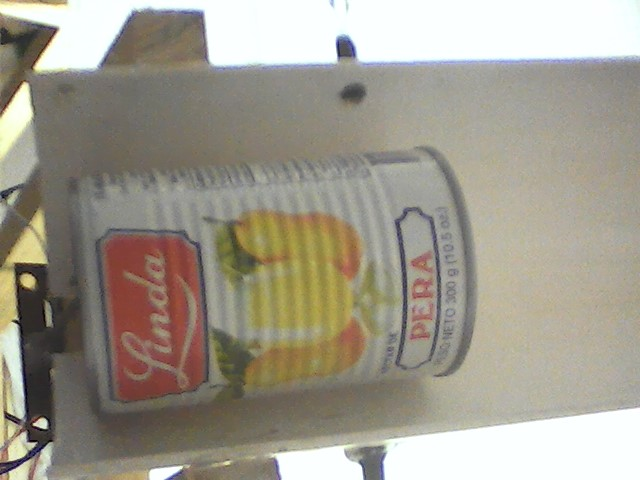lata: (59, 141, 486, 421)
